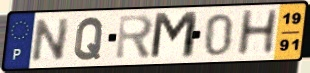0: (204, 11, 237, 57)
H: (234, 8, 281, 59)
M: (148, 10, 201, 62)
N: (29, 16, 73, 64)
Q: (72, 16, 106, 62)
R: (113, 13, 156, 62)
